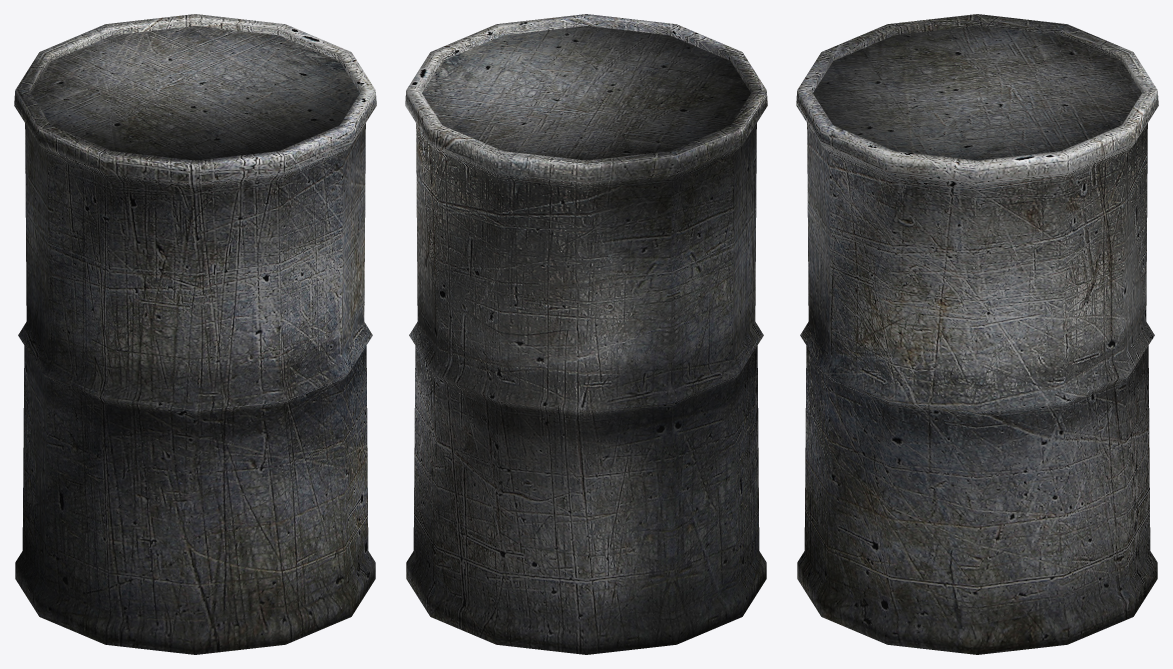
The model's file is barrel.fbx.
3 renders of one model, left to right at view 1: azimuth 30°, elevation 25°; view 2: azimuth 150°, elevation 25°; view 3: azimuth 270°, elevation 25°, orthographic.
Parts seen in each view (by area): view 1: barrel; view 2: barrel; view 3: barrel.
Part boxes in pixels (<box>): barrel: <box>14,14,376,654</box>; barrel: <box>405,14,767,654</box>; barrel: <box>796,14,1158,654</box>.
Size of the model in its own units: 30.6 by 45.48 by 30.6.
